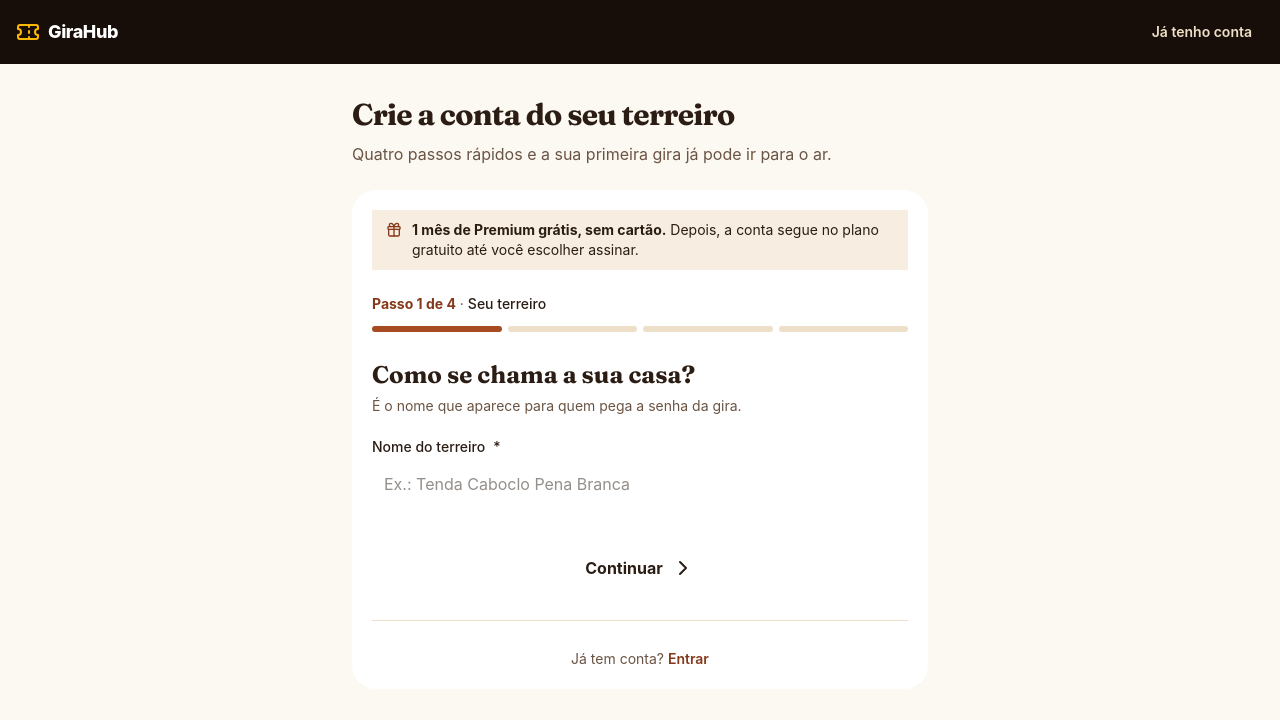
Test case: Cadastro em passos › Enter (envio do formulário) avança e registra o passo concluído
Type "Casa Nova" into the field labelled "Nome do terreiro *" at (640, 484), box [372, 460, 908, 508]
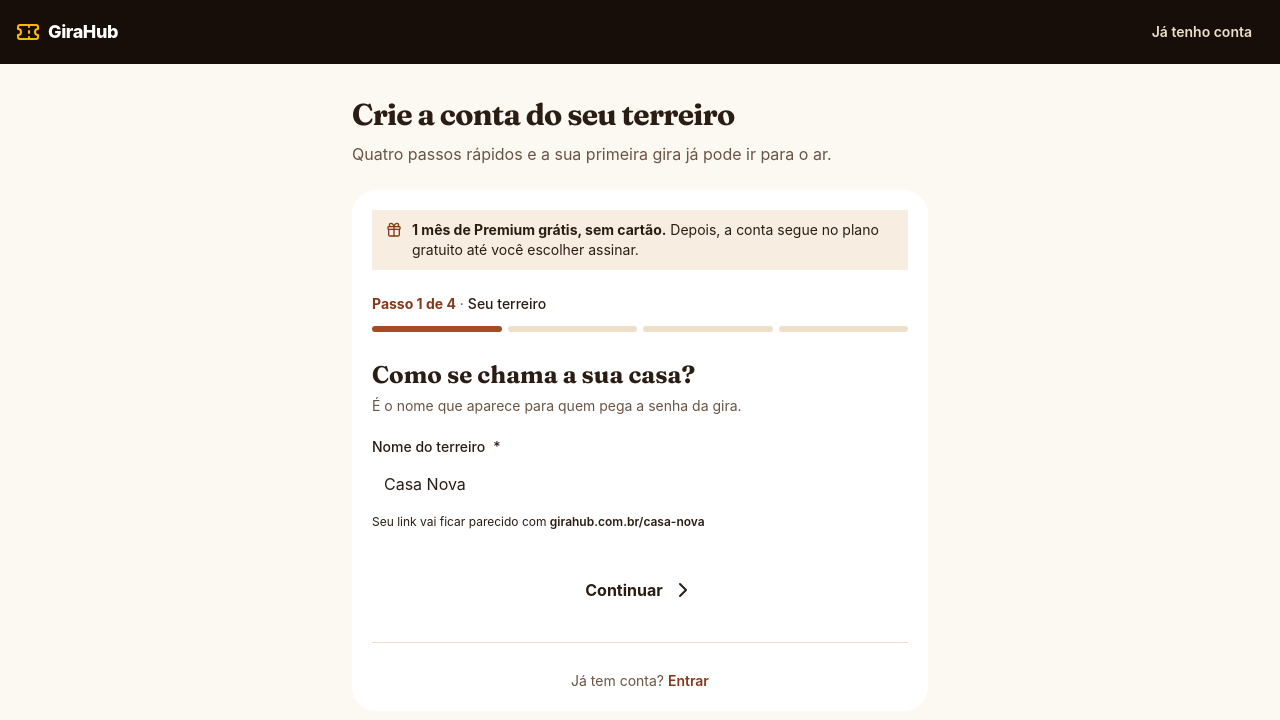
Submit the form named "Nome do terreiro", box [372, 360, 908, 614]
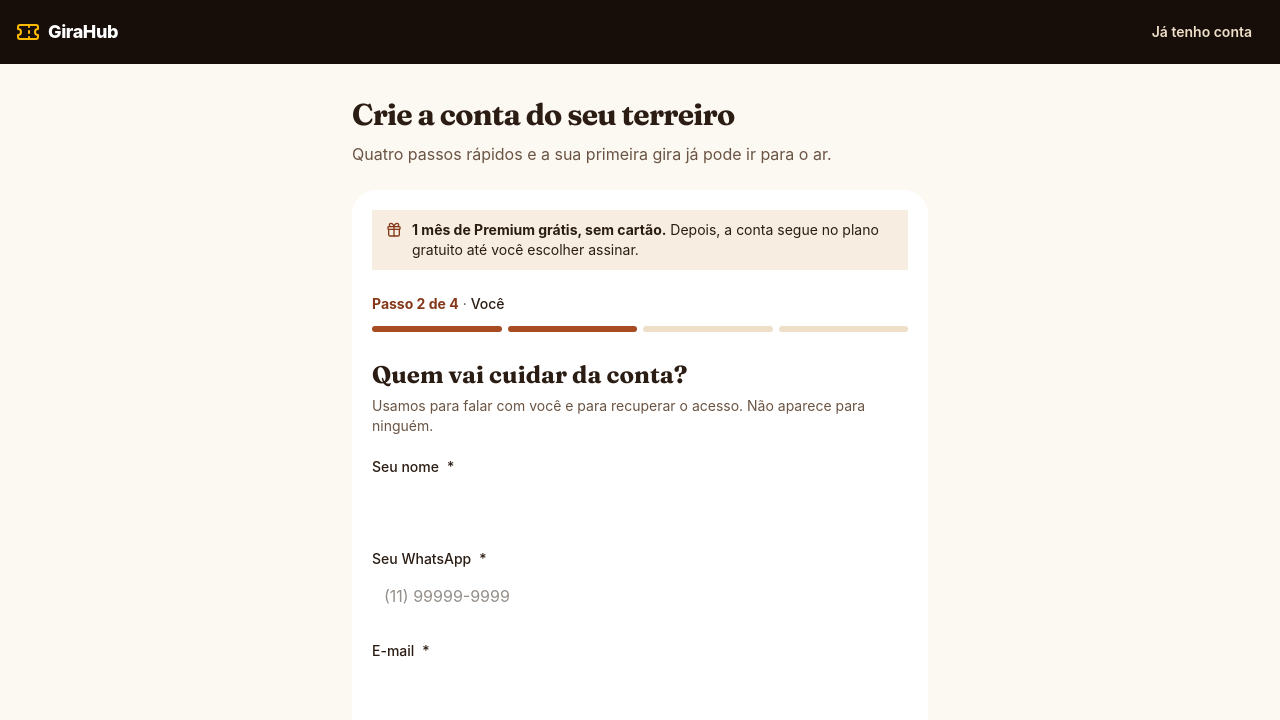
Expected: the text "Passo 2 de 4" is shown, [372, 294, 459, 312]
